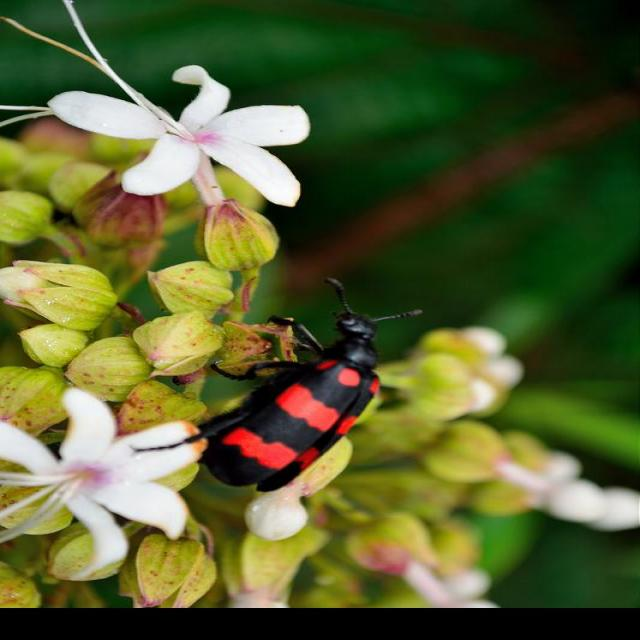BlisterBeetle-Adult-: (198, 264, 426, 499)
